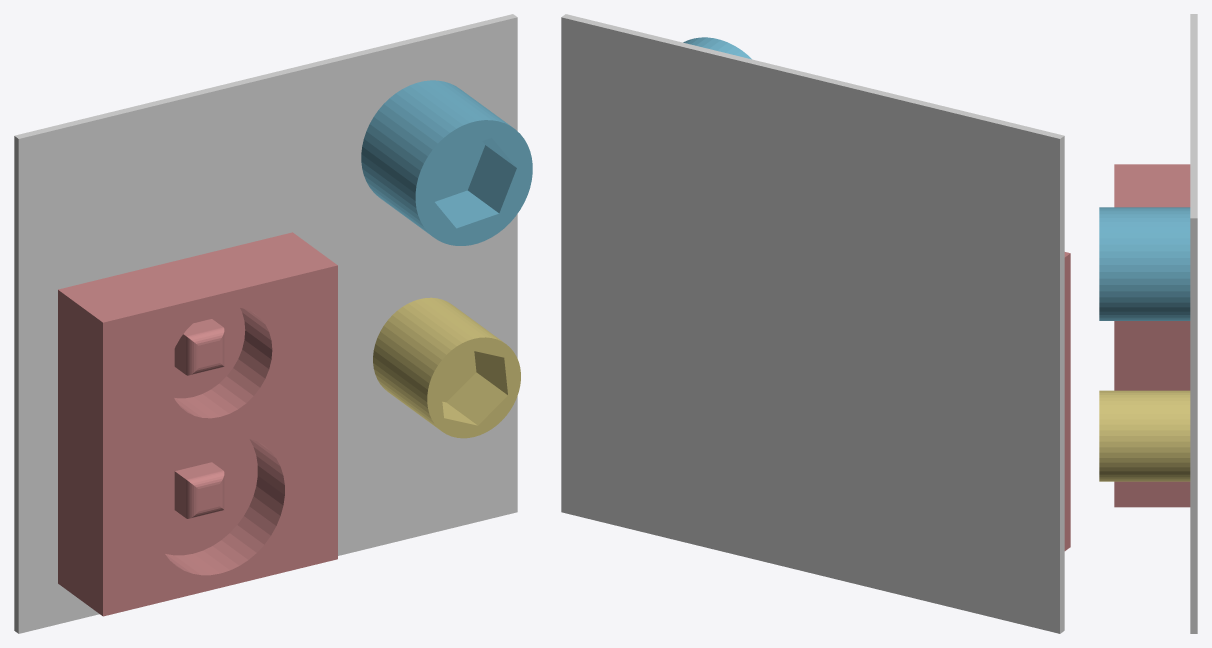
Rendered from pickup_layout.glb.
3 renders of one model, left to right at view 1: azimuth 30°, elevation 25°; view 2: azimuth 150°, elevation 25°; view 3: azimuth 270°, elevation 25°, orthographic. The views are drawn at different scales.
Visible parts, largest first — view 1: world, 0.obj, 2.obj, 1.obj; view 2: world, 0.obj; view 3: 0.obj, 2.obj, 1.obj, world.
Boxes of the visible parts, x1,y1,x2,y2 form: world: (14, 14, 517, 633); 0.obj: (58, 232, 337, 616); 2.obj: (361, 80, 532, 245); 1.obj: (373, 297, 520, 438); world: (561, 14, 1064, 633); 0.obj: (1064, 252, 1070, 550); 0.obj: (1114, 164, 1190, 507); 2.obj: (1099, 207, 1190, 320); 1.obj: (1099, 390, 1190, 481); world: (1190, 14, 1197, 633).
Bounding box in the file's own units: 12.75 × 12.08 × 2.6.
